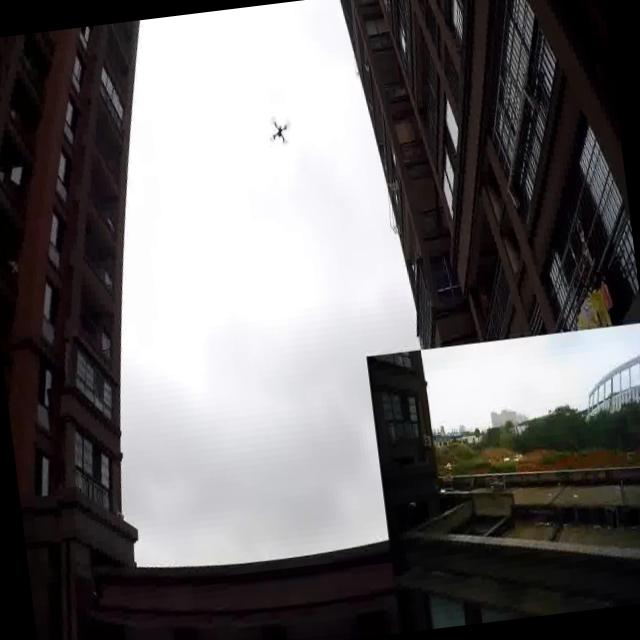drone: (262, 110, 295, 149)
